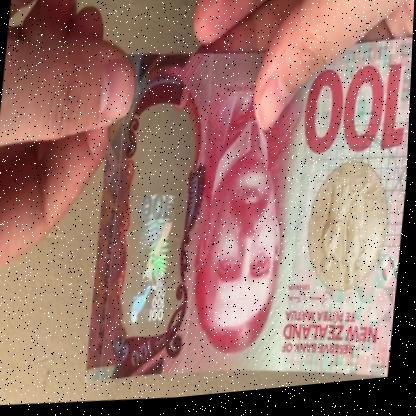100F: (126, 124, 187, 340)
